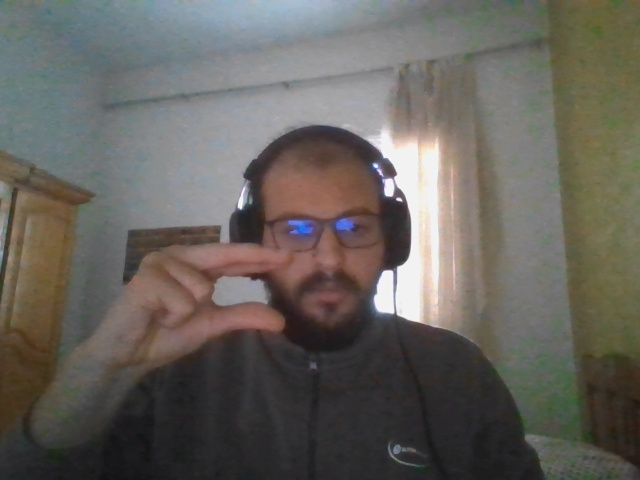No: (130, 246, 291, 362)
